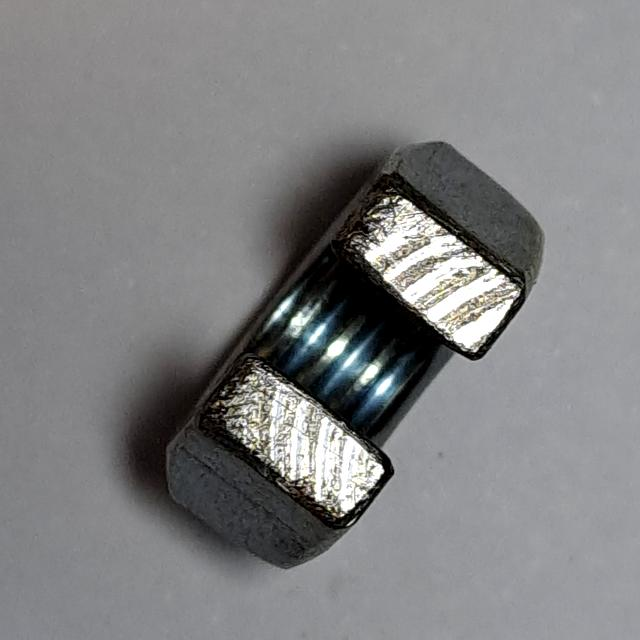Side-Fracture: (154, 124, 567, 603)
